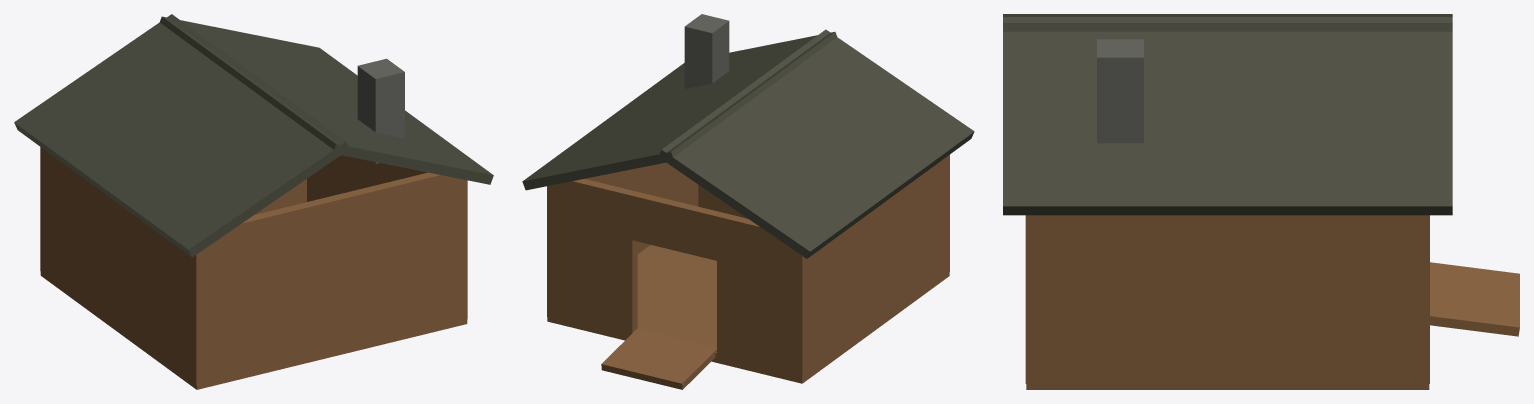
Rendered from cabin.glb.
The picture shows the model from 3 angles, left to right: view 1: azimuth 30°, elevation 25°; view 2: azimuth 150°, elevation 25°; view 3: azimuth 270°, elevation 25°; orthographic projection. The views are drawn at different scales.
Parts seen in each view (by area): view 1: Лесной домик; view 2: Лесной домик; view 3: Лесной домик.
Part boxes in pixels (<box>): Лесной домик: <box>14,14,493,389</box>; Лесной домик: <box>522,14,974,389</box>; Лесной домик: <box>1003,14,1519,389</box>.
Size of the model in its own units: 6.78 by 5.18 by 7.7.
